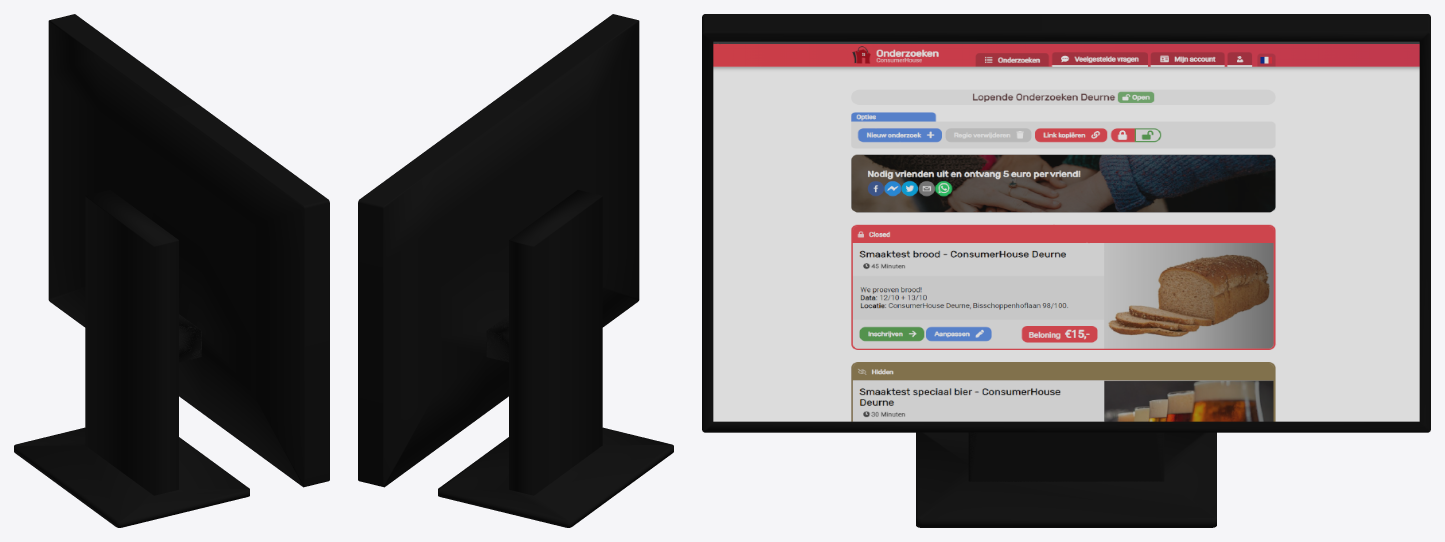
Rendered from monitor.gltf.
3 renders of one model, left to right at view 1: azimuth 30°, elevation 25°; view 2: azimuth 150°, elevation 25°; view 3: azimuth 270°, elevation 25°, orthographic. The views are drawn at different scales.
Visible parts, largest first — view 1: Monitor, Stand; view 2: Monitor, Stand; view 3: Screen, Monitor, Stand.
Part boxes in pixels (x1,y1,x2,y2): Monitor: [48, 14, 329, 487]; Stand: [14, 190, 249, 527]; Monitor: [358, 14, 639, 487]; Stand: [438, 190, 673, 527]; Screen: [713, 41, 1419, 421]; Monitor: [702, 14, 1430, 432]; Stand: [916, 432, 1216, 527].
Bounding box in the file's own units: 0.1605 × 0.3929 × 0.5206.
2 materials, 1 textured.
